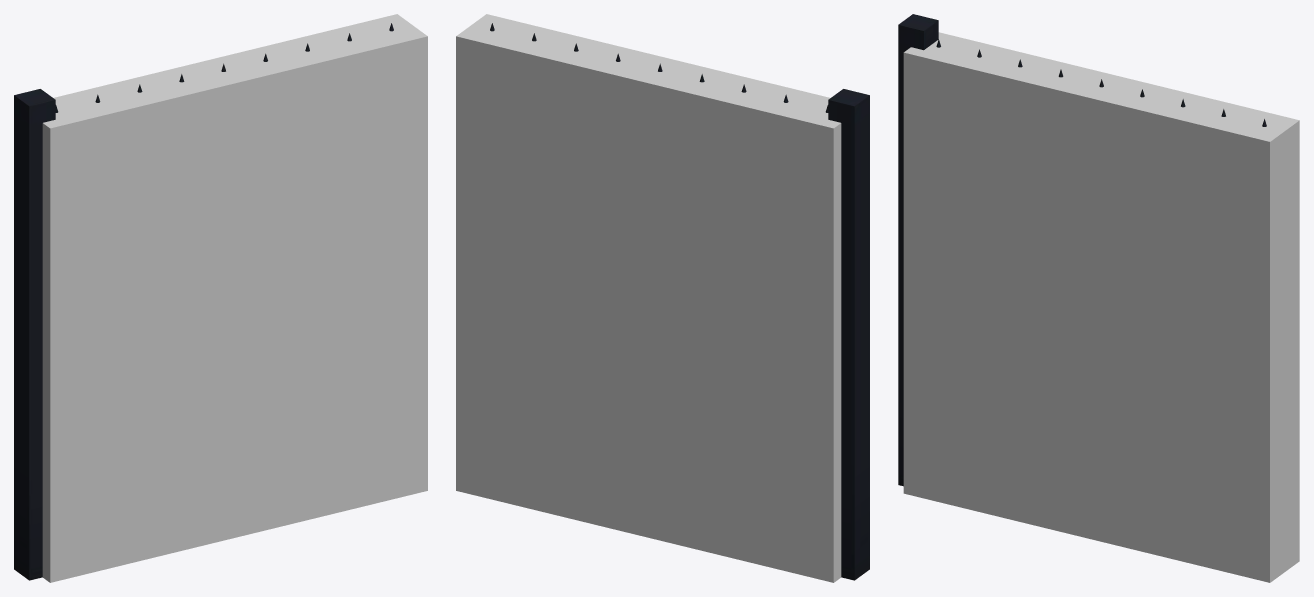
Rendered from fence_panel.glb.
3 views of the same model, side by side, from view 1: azimuth 30°, elevation 25°; view 2: azimuth 150°, elevation 25°; view 3: azimuth 330°, elevation 25° (orthographic). The views are drawn at different scales.
Visible parts, largest first — view 1: COL_Panel, FencePanel; view 2: COL_Panel, FencePanel; view 3: COL_Panel, FencePanel.
Boxes of the visible parts, left/top/right/bottom form: COL_Panel: left=42, top=14, right=427, bottom=582; FencePanel: left=14, top=23, right=393, bottom=580; COL_Panel: left=456, top=14, right=841, bottom=582; FencePanel: left=490, top=23, right=869, bottom=580; COL_Panel: left=903, top=32, right=1299, bottom=582; FencePanel: left=898, top=14, right=1266, bottom=486.
Bounding box in the file's own units: 2.07 × 2.4 × 0.2799.
Materials: 1 (1 with a texture image).
